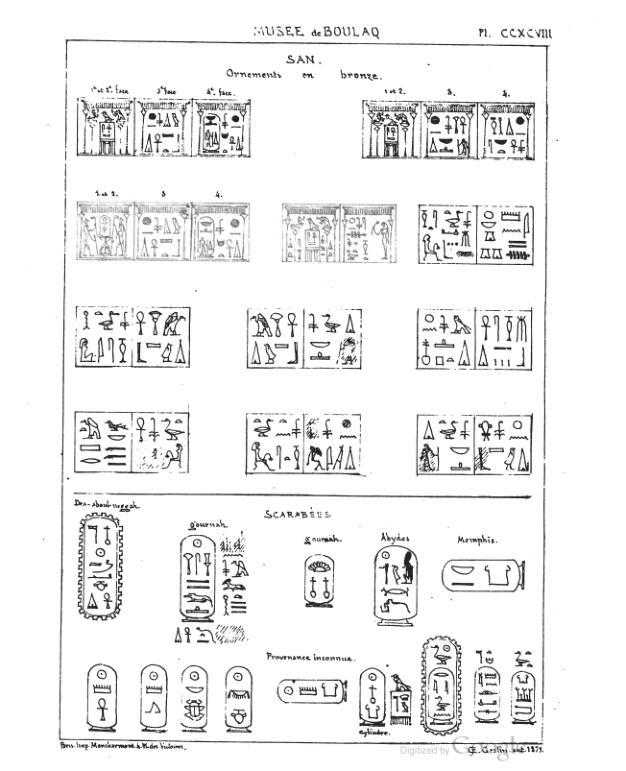circle: (73, 511, 131, 621), (418, 629, 464, 739), (369, 543, 421, 629), (437, 555, 532, 595), (177, 531, 216, 626), (79, 661, 120, 734), (271, 672, 351, 709), (176, 662, 213, 737), (469, 651, 502, 732), (298, 549, 341, 611), (221, 660, 256, 736), (136, 662, 171, 735), (353, 662, 387, 729), (506, 665, 537, 728)
